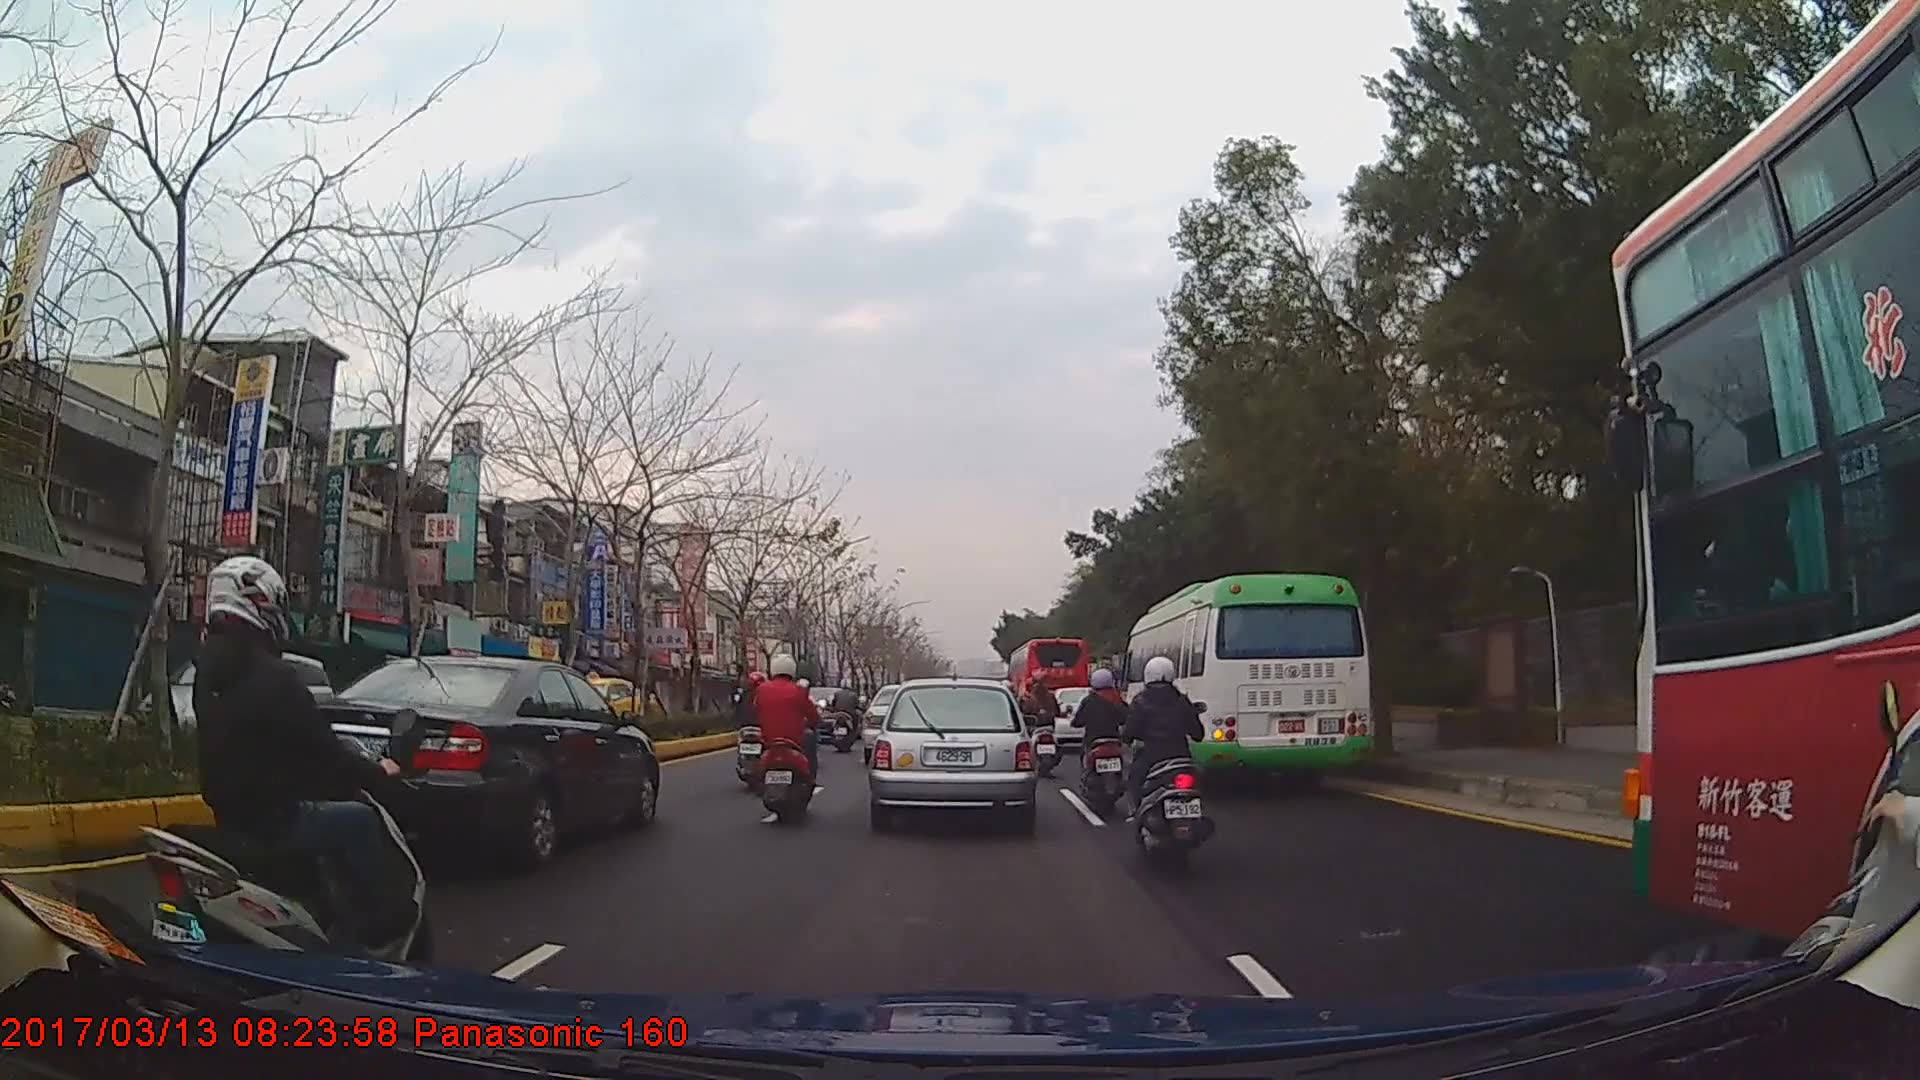rider: (138, 550, 427, 1002), (1127, 653, 1218, 871), (752, 649, 819, 826), (1070, 666, 1135, 816), (1022, 670, 1064, 779), (834, 678, 868, 753)
vehicle: (1609, 0, 1920, 991), (279, 655, 659, 866), (1119, 572, 1377, 791), (869, 676, 1033, 826), (1008, 634, 1092, 730), (537, 666, 649, 736)
